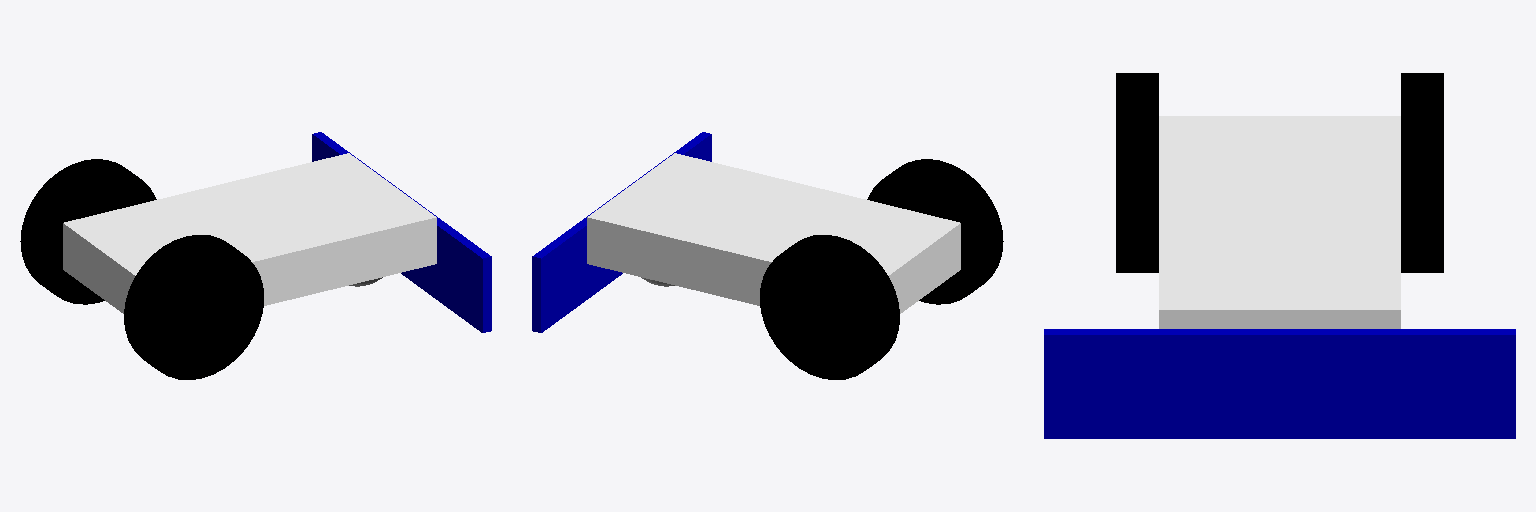
robot.urdf — test_robot:
<?xml version='1.0' encoding='utf-8'?>
<robot name="test_robot">

  
  <link name="base_link">
    <visual>
      <geometry>
        <box size="0.32 0.17 0.05" />
      </geometry>
      <origin rpy="0 0 0" xyz="0 0 0.07" />
      <material name="white">
        <color rgba="1 1 1 1" />
      </material>
    </visual>
    <collision>
      <geometry>
        <box size="0.32 0.17 0.05" />
      </geometry>
      <origin rpy="0 0 0" xyz="0 0 0.045" />
    </collision>
    <inertial>
      <origin xyz="0 0 0.045" rpy="0 0 0" />
      <mass value="1.0" />
      <inertia ixx="0.002" ixy="0.0" ixz="0.0" iyy="0.001" iyz="0.0" izz="0.003" />
    </inertial>
  </link>

  
  <link name="front_wheel">
    <visual>
      <geometry>
        <sphere radius="0.04" />
      </geometry>
      <origin rpy="0 0 0" xyz="0 0 0.0" />
      <material name="grey">
        <color rgba="0.5 0.5 0.5 1" />
      </material>
    </visual>
    <collision>
      <geometry>
        <sphere radius="0.04" />
      </geometry>
      <origin rpy="0 0 0" xyz="0 0 0" />
    </collision>
    <inertial>
      <origin xyz="0 0 0" rpy="0 0 0" />
      <mass value="0.1" />
      <inertia ixx="0.00002" ixy="0.0" ixz="0.0" iyy="0.00002" iyz="0.0" izz="0.0003" />
    </inertial>
  </link>

  
  <joint name="base_to_front_wheel" type="fixed">
    <parent link="base_link" />
    <child link="front_wheel" />
    <origin xyz="0.12 0 0.04" rpy="0 0 0" />
  </joint>

  
  <link name="lwheel">
    <visual>
      <geometry>
        <cylinder length="0.03" radius="0.07" />
      </geometry>
      <origin rpy="0 0 0" xyz="0 0 0" />
      <material name="black">
        <color rgba="0 0 0 1" />
      </material>
    </visual>
    <collision>
      <geometry>
        <cylinder length="0.03" radius="0.07" />
      </geometry>
      <origin rpy="0 0 0" xyz="0 0 0" />
    </collision>
    <inertial>
      <origin xyz="0 0 0" rpy="0 0 0" />
      <mass value="0.2" />
      <inertia ixx="0.000037" ixy="0.0" ixz="0.0" iyy="0.000037" iyz="0.0" izz="0.00049" />
    </inertial>
  </link>

  
  <joint name="base_to_lwheel" type="continuous">
    <parent link="base_link" />
    <child link="lwheel" />
    <origin xyz="-0.12 0.1 0.07" rpy="1.5708 0 0" />
    <axis xyz="0 0 1" /> 
  </joint>

  
  <link name="rwheel">
    <visual>
      <geometry>
        <cylinder length="0.03" radius="0.07" />
      </geometry>
      <origin rpy="0 0 0" xyz="0 0 0" />
      <material name="black">
        <color rgba="0 0 0 1" />
      </material>
    </visual>
    <collision>
      <geometry>
        <cylinder length="0.03" radius="0.07" />
      </geometry>
      <origin rpy="0 0 0" xyz="0 0 0" />
    </collision>
    <inertial>
      <origin xyz="0 0 0" rpy="0 0 0" />
      <mass value="0.2" />
      <inertia ixx="0.000037" ixy="0.0" ixz="0.0" iyy="0.000037" iyz="0.0" izz="0.00049" />
    </inertial>
  </link>

  
  <joint name="base_to_rwheel" type="continuous">
    <parent link="base_link" />
    <child link="rwheel" />
    <origin xyz="-0.12 -0.1 0.07" rpy="1.5708 0 0" />
    <axis xyz="0 0 1" /> 
  </joint>


   
  <link name="shovel">
    <visual>
      <geometry>
        <box size="0.01 0.33 0.08" />
      </geometry>
      <origin rpy="0 0 0" xyz="0 0 0" />
      <material name="blue">
        <color rgba="0 0 0.8 1" />
      </material>
    </visual>
    <collision>
      <geometry>
        <box size="0.01 0.33 0.08" />
      </geometry>
      <origin rpy="0 0 0" xyz="0 0 0" />
    </collision>
    <inertial>
      <origin xyz="0 0 0" rpy="0 0 0" />
      <mass value="0.3" />
      <inertia ixx="0.0001" ixy="0.0" ixz="0.0" iyy="0.0001" iyz="0.0" izz="0.0002" />
    </inertial>
  </link>

  <joint name="base_to_fattach" type="fixed">
    <parent link="base_link" />
    <child link="shovel" />
    <origin xyz="0.17 0 0.042" rpy="0 0 0" />
  </joint>
  

</robot>

--- Render facts (derived) ---
3 views of the same robot in one strip: view 1: azimuth 30°, elevation 25°; view 2: azimuth 150°, elevation 25°; view 3: azimuth 270°, elevation 25° (orthographic).
Robot: test_robot — 5 links, 4 joints (2 continuous, 2 fixed); root link base_link; default pose: every joint at zero.
Links seen in each view (by area): view 1: base_link, rwheel, lwheel, shovel; view 2: base_link, lwheel, rwheel, shovel; view 3: shovel, base_link, lwheel, rwheel.
Boxes of the visible links, left/top/right/bottom form: base_link: left=63, top=153, right=436, bottom=313; rwheel: left=124, top=235, right=263, bottom=379; lwheel: left=20, top=159, right=156, bottom=304; shovel: left=312, top=132, right=491, bottom=332; base_link: left=587, top=153, right=960, bottom=313; lwheel: left=760, top=235, right=899, bottom=379; rwheel: left=867, top=159, right=1003, bottom=304; shovel: left=532, top=132, right=711, bottom=332; shovel: left=1044, top=329, right=1515, bottom=438; base_link: left=1159, top=116, right=1400, bottom=328; lwheel: left=1401, top=73, right=1443, bottom=272; rwheel: left=1116, top=73, right=1158, bottom=272.
Bounding box of the posed robot: 0.365 × 0.33 × 0.14 m (x, y, z).
Geometry: primitives only (box / cylinder / sphere), no mesh files.
